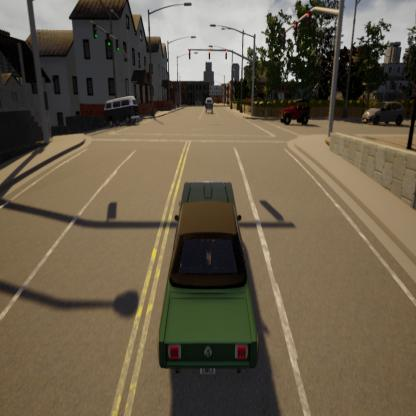Cars: (158, 181, 260, 376), (102, 96, 140, 130), (363, 100, 406, 130), (280, 98, 309, 126), (203, 94, 215, 116)
